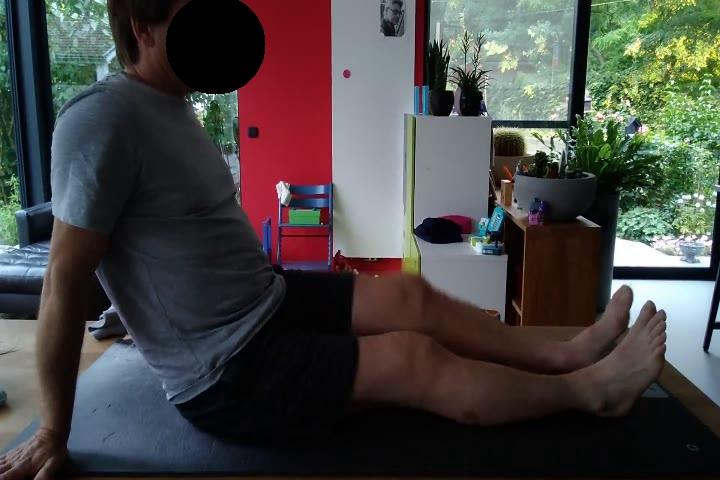lower_body: (178, 272, 668, 439)
